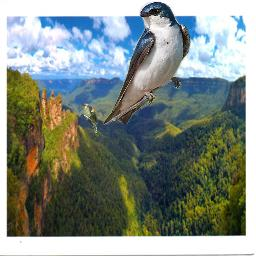Cuckoo: (78, 103, 99, 138)
Swallow: (103, 0, 191, 126)
